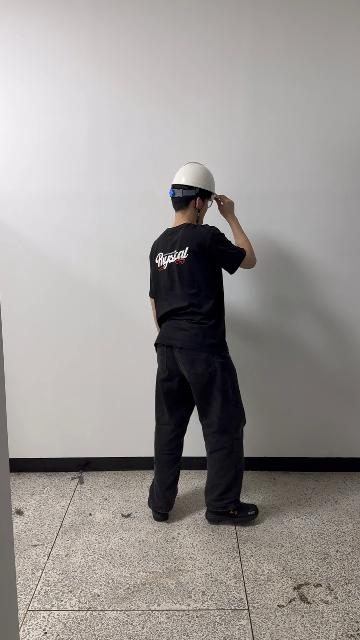helmet_worn: (171, 161, 217, 195)
shoe_worn: (205, 502, 258, 523), (148, 502, 170, 522)
vest_not_worn: (151, 227, 236, 378)
